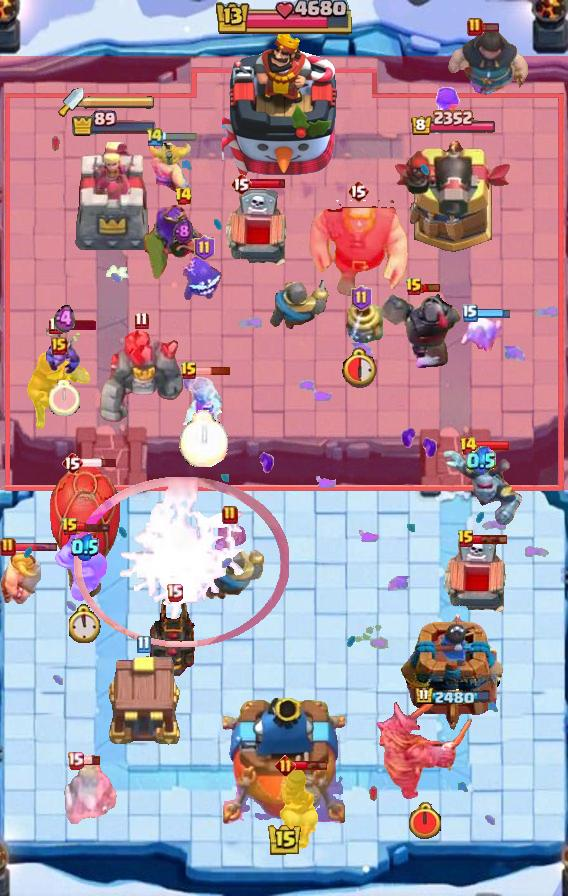archer-evolution: (147, 595, 201, 677)
balloon: (307, 200, 409, 298)
bar: (73, 140, 155, 256)
barbarian-evolution: (75, 476, 290, 648)
barbarian-hut: (142, 202, 224, 284)
bomb: (103, 653, 183, 747)
bomber-evolution: (182, 375, 224, 425)
cannon-cart: (49, 463, 121, 603)
cannoneer-tower: (98, 329, 184, 425)
clock: (213, 0, 355, 38)
electro-spirit: (466, 446, 496, 476), (71, 533, 99, 561), (53, 305, 75, 336), (173, 220, 193, 245)
elite-barbarian: (279, 769, 323, 851)
elixir: (179, 409, 229, 466), (343, 346, 382, 388), (407, 803, 443, 842), (69, 605, 102, 644), (49, 380, 79, 416)
elixir-golem-mid: (223, 188, 293, 274), (442, 535, 512, 621)
elixir-golem-small: (439, 447, 523, 525), (54, 531, 108, 603)
emote: (6, 542, 58, 553), (81, 457, 118, 469), (475, 440, 511, 452), (76, 521, 112, 533), (293, 759, 329, 771), (249, 178, 287, 189), (476, 308, 512, 319), (472, 535, 508, 546), (162, 131, 197, 142), (60, 320, 96, 330), (197, 366, 232, 376), (480, 22, 500, 34), (421, 283, 441, 294), (83, 754, 102, 765)
fireball: (25, 352, 93, 432)
firecracker: (202, 546, 266, 602), (269, 280, 331, 330)
goblin: (431, 85, 464, 125)
goblin-drill: (337, 299, 385, 347)
goblin-giant: (149, 141, 193, 197), (0, 550, 40, 605)
golemite: (375, 695, 475, 803)
ice-spirit-evolution: (212, 522, 248, 554)
king-tower: (222, 31, 346, 181), (223, 698, 345, 826)
king-tower-bar: (84, 95, 156, 109)
mirror: (456, 314, 506, 352)
mortar-evolution: (61, 761, 119, 829)
queen-tower: (401, 613, 505, 731)
royal-delivery: (46, 328, 82, 376)
royal-guardian: (378, 288, 470, 370)
royal-hog: (446, 30, 530, 108)
selected: (70, 111, 157, 138), (411, 111, 498, 138), (414, 686, 492, 707)
spear-goblin: (183, 257, 225, 303)
text: (193, 235, 215, 261), (351, 285, 373, 311), (230, 172, 252, 196), (347, 179, 369, 203), (61, 451, 83, 475), (275, 756, 296, 777), (145, 126, 165, 147), (175, 186, 194, 206), (459, 436, 478, 456), (405, 277, 423, 297), (180, 361, 198, 381), (61, 517, 79, 537), (457, 529, 475, 549), (165, 582, 183, 601), (67, 750, 85, 769), (467, 17, 483, 37), (222, 505, 238, 525), (0, 537, 16, 557), (462, 304, 478, 322), (51, 337, 67, 355), (49, 316, 64, 335), (135, 311, 149, 329), (137, 635, 151, 653)
tower-bar: (392, 138, 514, 256)
